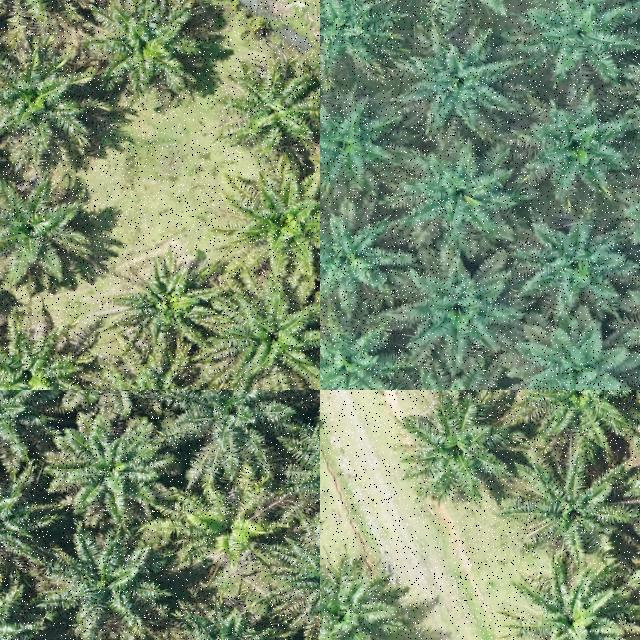Ganoderma: (189, 496, 268, 570)
